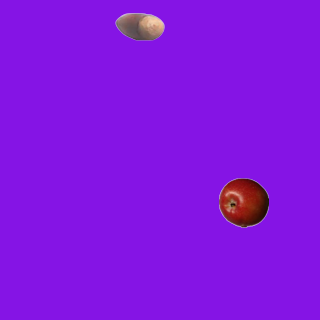Apple Braeburn: (218, 177, 268, 227)
Hazelnut: (114, 1, 164, 51)
